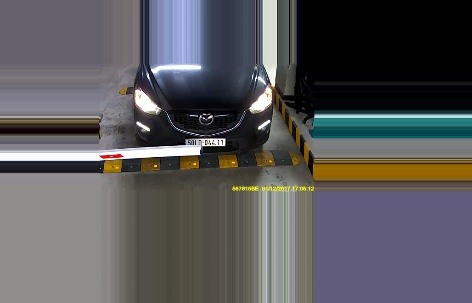plate: (183, 136, 226, 148)
